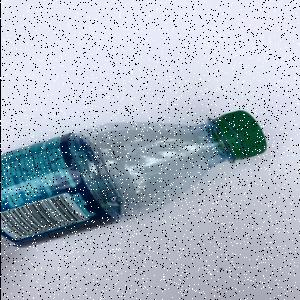Plastic-bottle: (2, 110, 269, 256)
